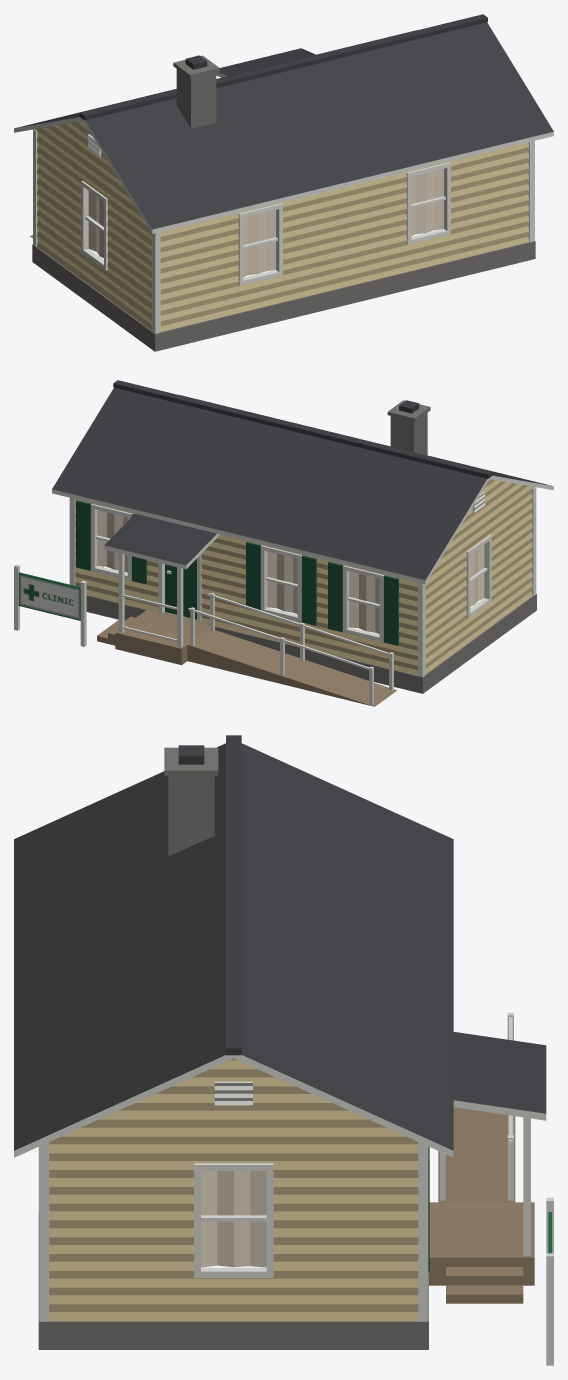
Rendered from doctors-office.glb.
The picture shows the model from 3 angles, top to bottom: view 1: azimuth 30°, elevation 25°; view 2: azimuth 150°, elevation 25°; view 3: azimuth 270°, elevation 25°; orthographic projection. The views are drawn at different scales.
Visible parts, largest first — view 1: DoctorsOffice; view 2: DoctorsOffice; view 3: DoctorsOffice.
Boxes of the visible parts, x1,y1,x2,y2 form: DoctorsOffice: [14, 14, 553, 351]; DoctorsOffice: [14, 380, 553, 706]; DoctorsOffice: [14, 735, 553, 1365].
Size of the model in its own units: 9.8 by 5.34 by 7.
8 materials, 1 textured.
